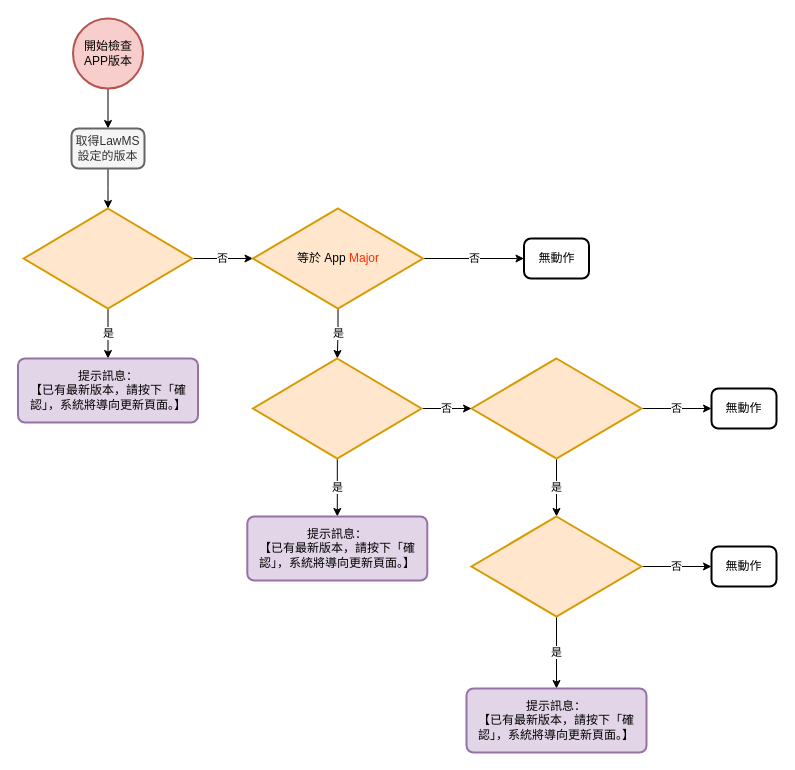
Some shapes in this 795 by 770 pixel diagram are drawn without their labels. The shapes that lost their labels are listed below. From the top down, each one's box as (x1, y1, x2, y2) in pixels, then its label:
(22, 207, 193, 309): 大於 App Major
(252, 357, 422, 459): 大於 App Minor
(470, 357, 642, 459): 等於 App Minor
(470, 515, 642, 617): 大於 App Patch
